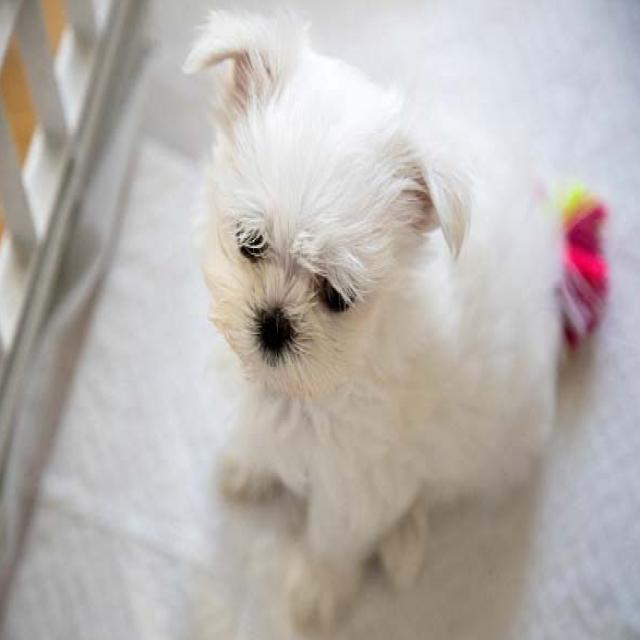dogs: (180, 16, 560, 634)
